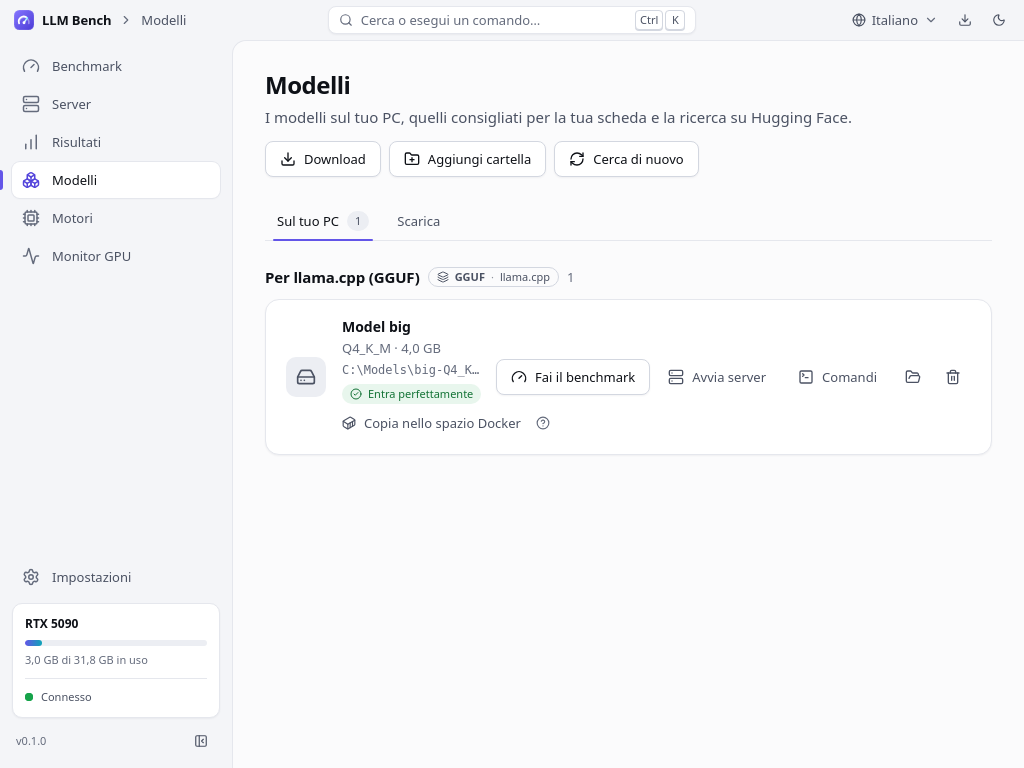
Test: a Hugging Face repo’s commands (the model page) › a model trained past every offered target: YaRN proposes twice its context
What coordinates should you click on to do the following:
click the button "Comandi"
I would click on:
 (838, 377)
Its box is [784, 359, 891, 395].
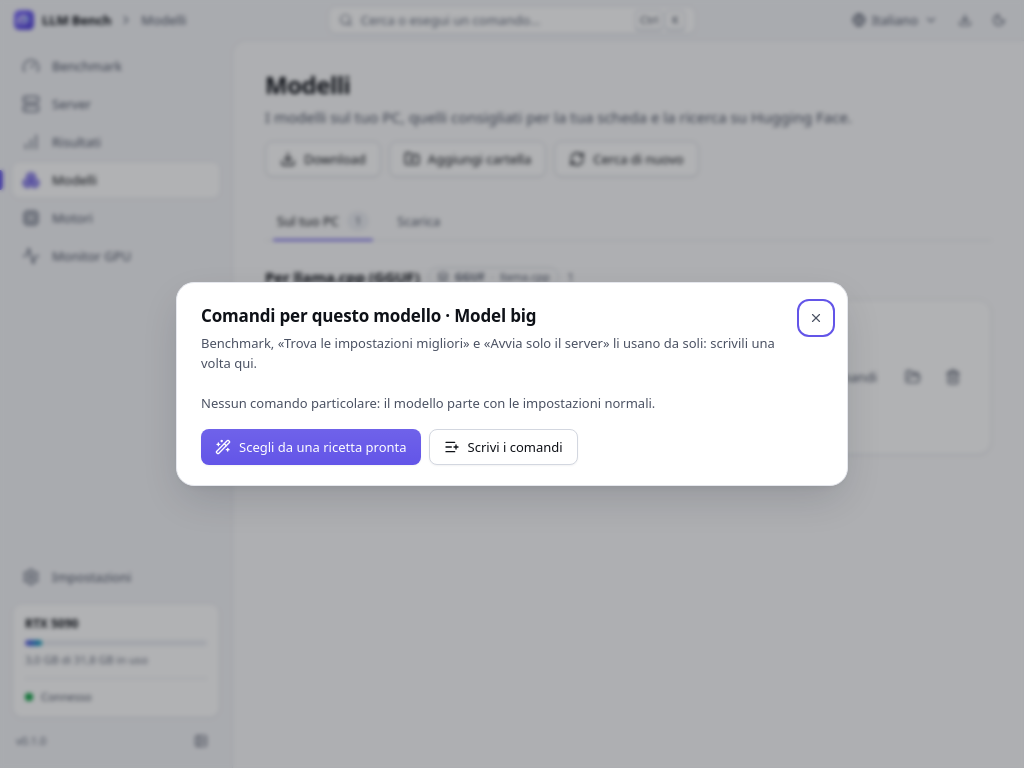
What coordinates should you click on to do the following:
click the button "Scegli da una ricetta pronta"
I would click on:
 (311, 447)
Its box is [201, 429, 420, 465].
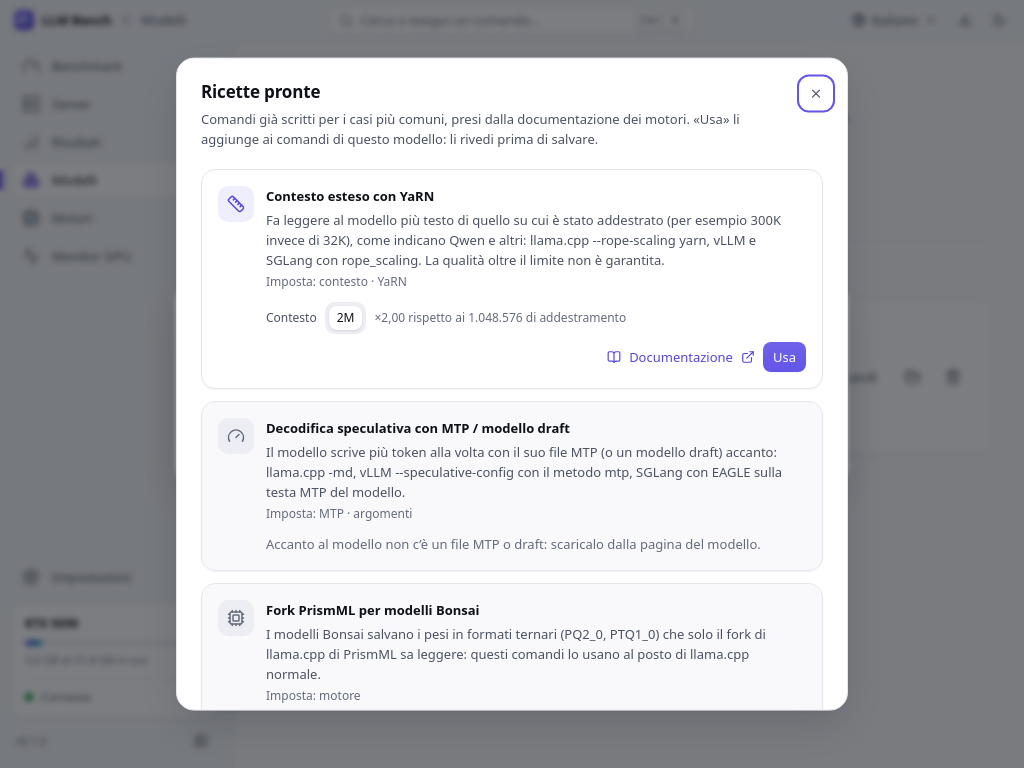
Now the text "×2,00 rispetto ai 1.048.576 di addestramento" is shown, box [374, 310, 626, 326]
